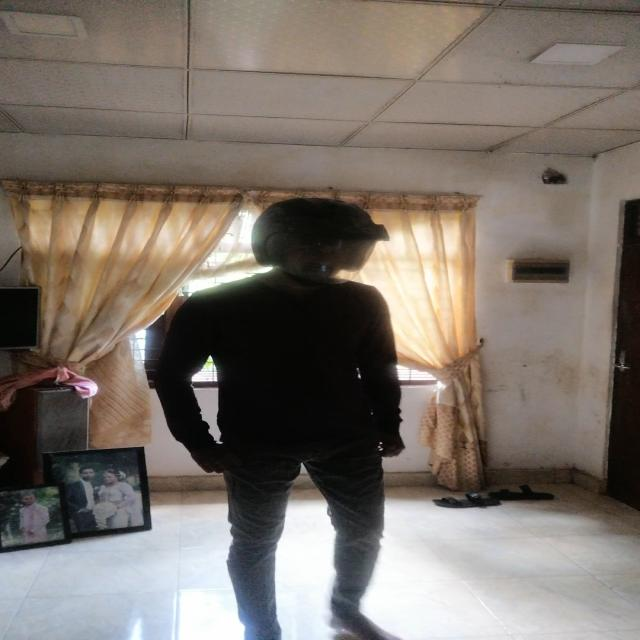Helmet_Wearer: (200, 192, 391, 284)
Person: (175, 186, 428, 635)
